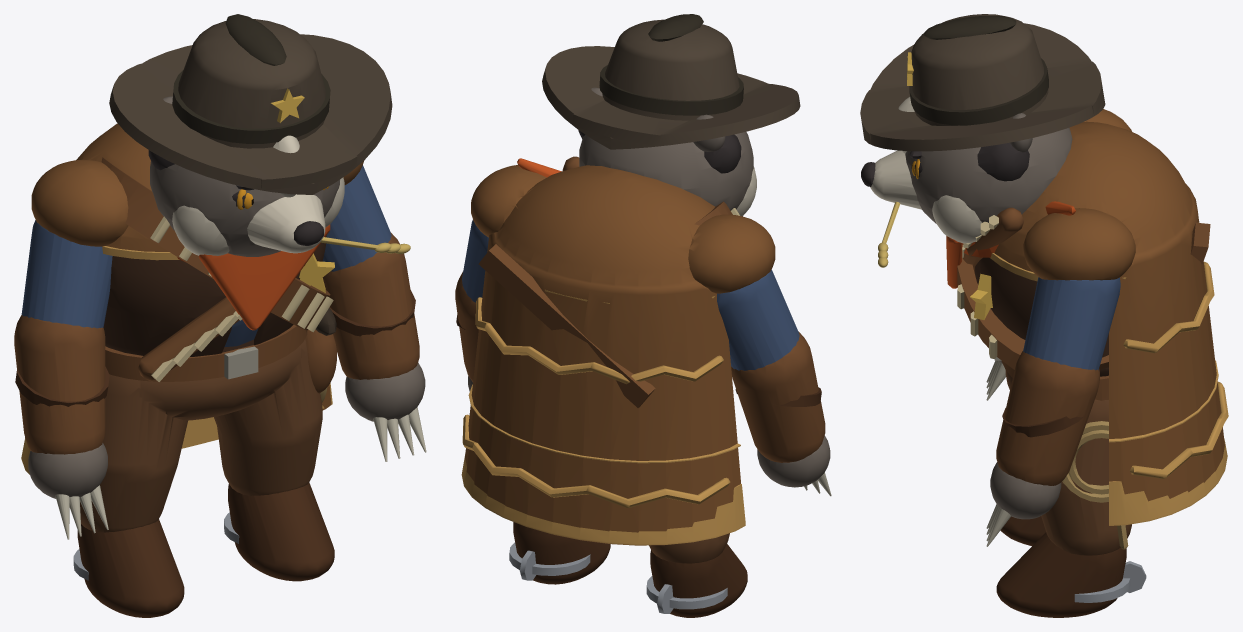
Rendered from lawlander.glb.
The picture shows the model from 3 angles, left to right: view 1: azimuth 30°, elevation 25°; view 2: azimuth 150°, elevation 25°; view 3: azimuth 270°, elevation 25°; orthographic projection. The views are drawn at different scales.
Parts seen in each view (by area): view 1: creature; view 2: creature; view 3: creature.
Part boxes in pixels (x1,y1,x2,y2): creature: (14,14,426,617); creature: (455,14,831,617); creature: (860,14,1228,617).
Size of the model in its own units: 0.6843 by 1 by 0.5974.
